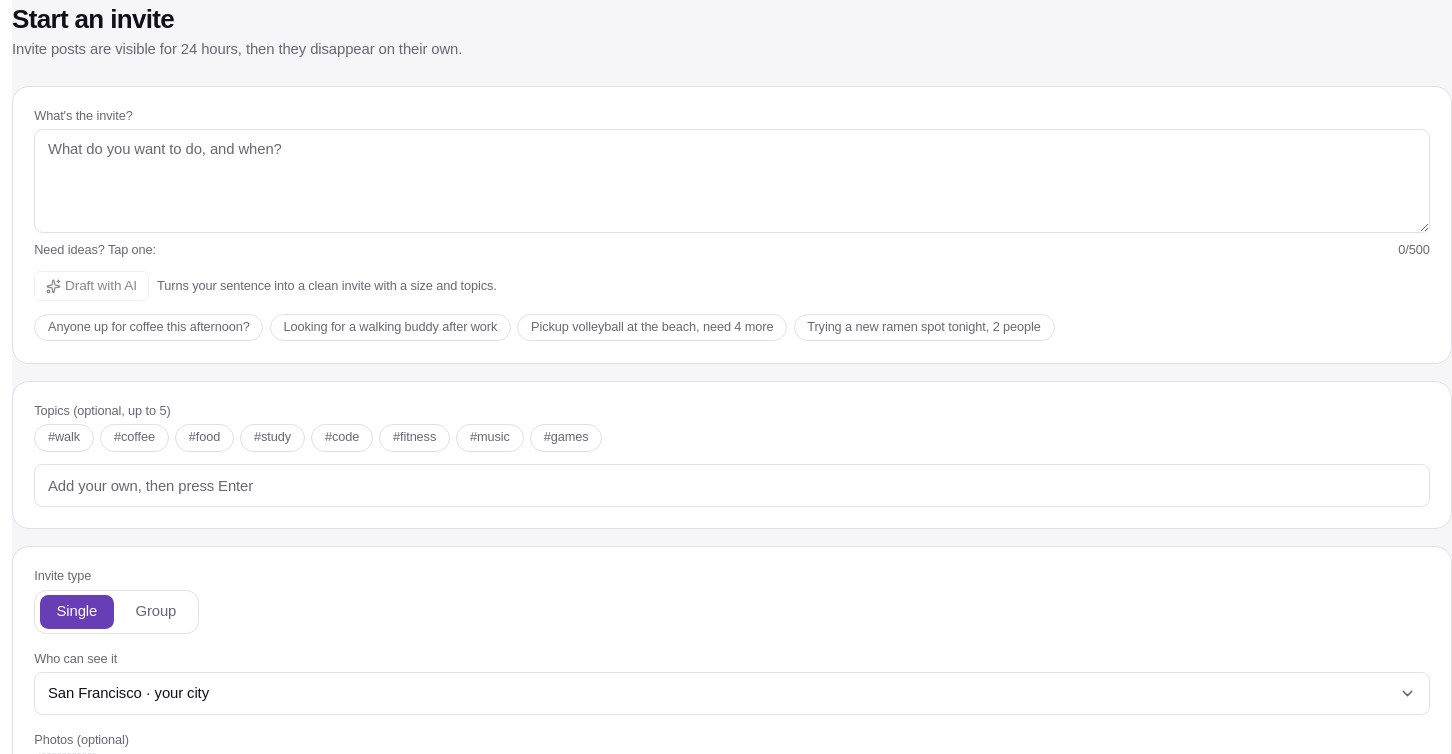
it: NewPostPage › lets a custom group size be abandoned back to the dropdown
The image size is (1452, 754).
Click the radio button labelled "Group". click: (156, 612)
box: [118, 595, 193, 629]
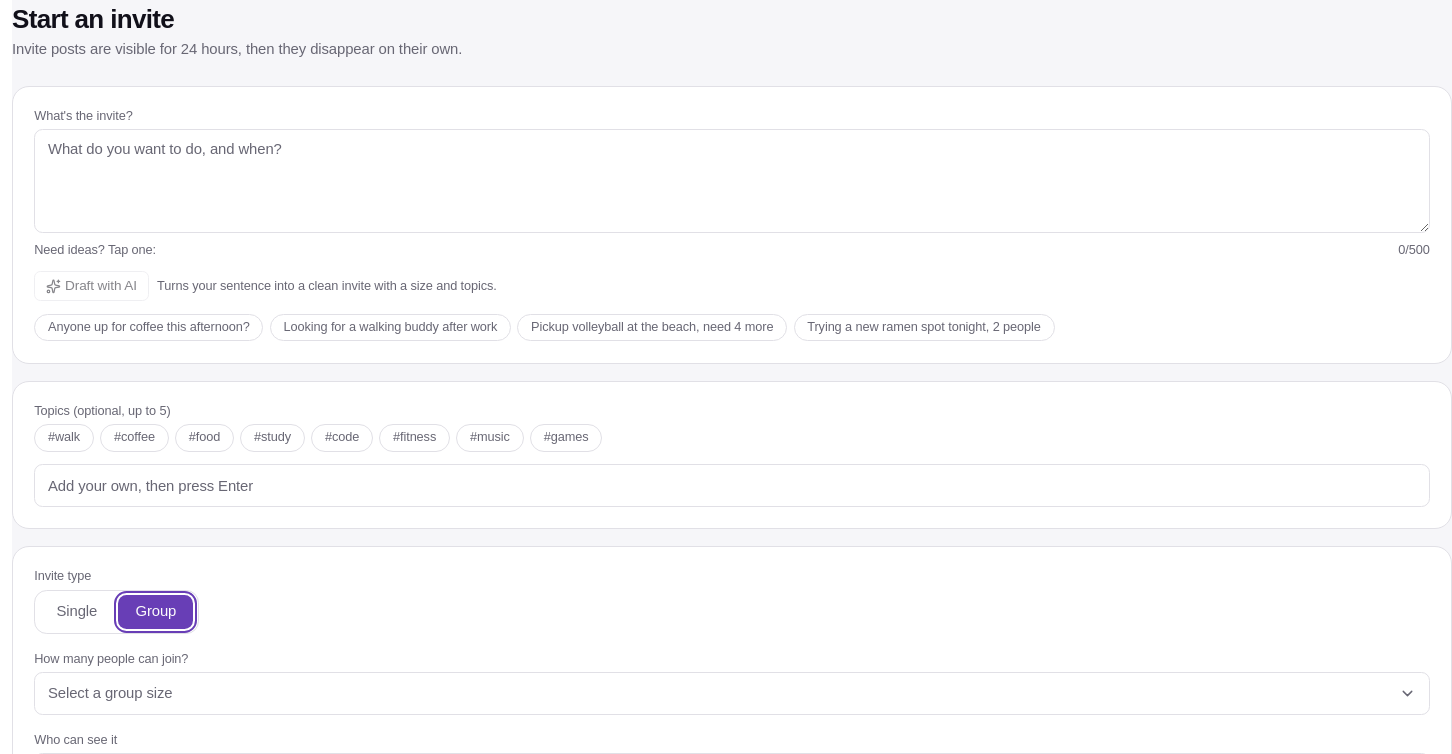
Click the dropdown named "How many people can join?". click: (110, 693)
box: [34, 672, 1430, 715]
(page scrolled)
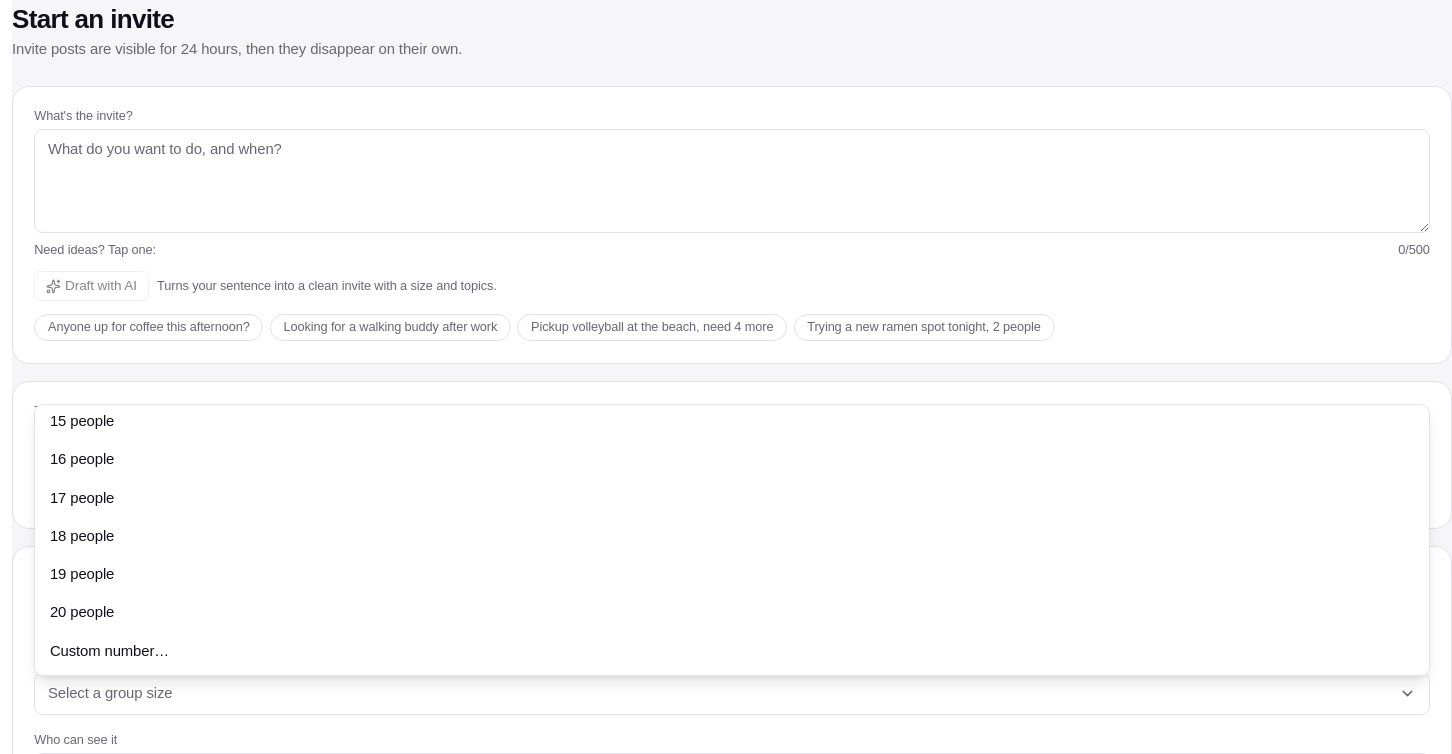
Click the option "Custom number…". click: (109, 651)
box: [50, 643, 169, 659]
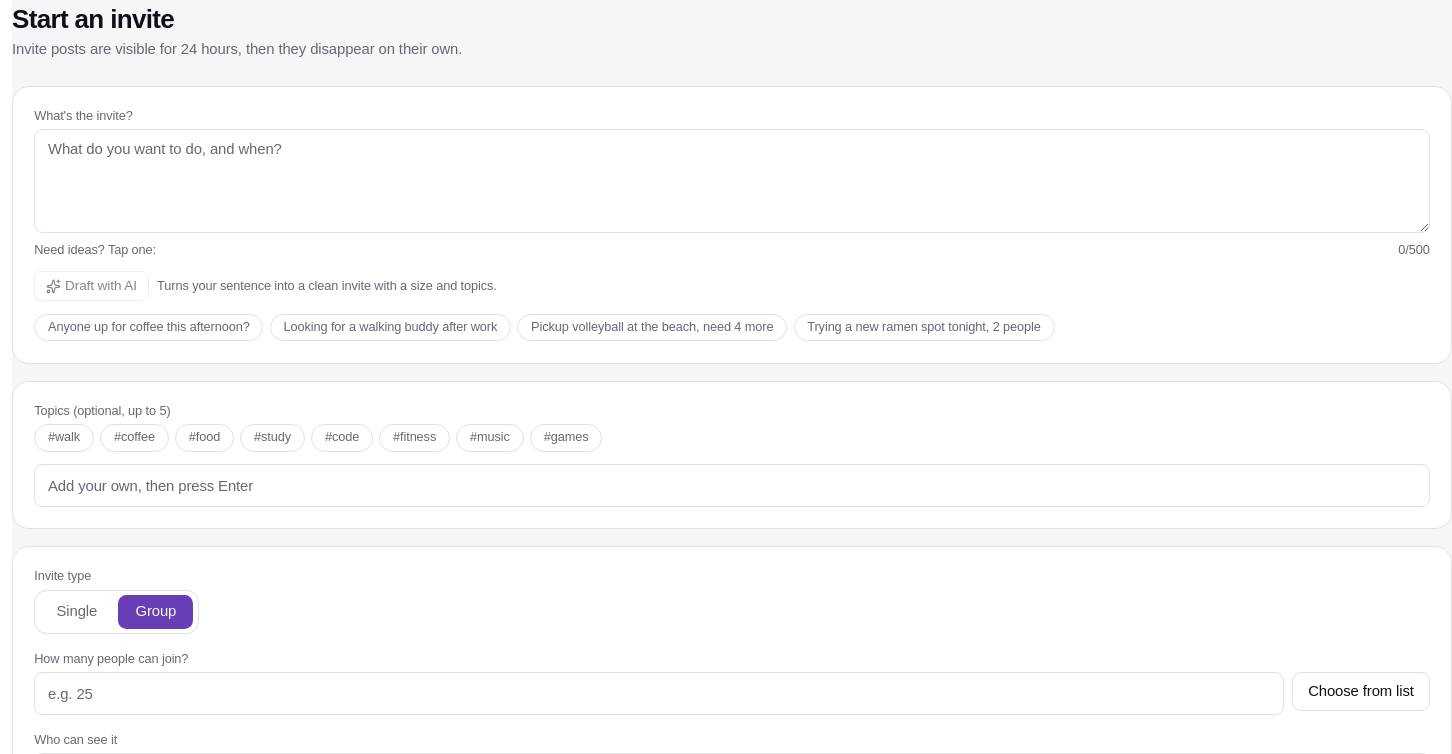
Click the button "Choose from list". click: (1361, 692)
box: [1292, 672, 1430, 711]
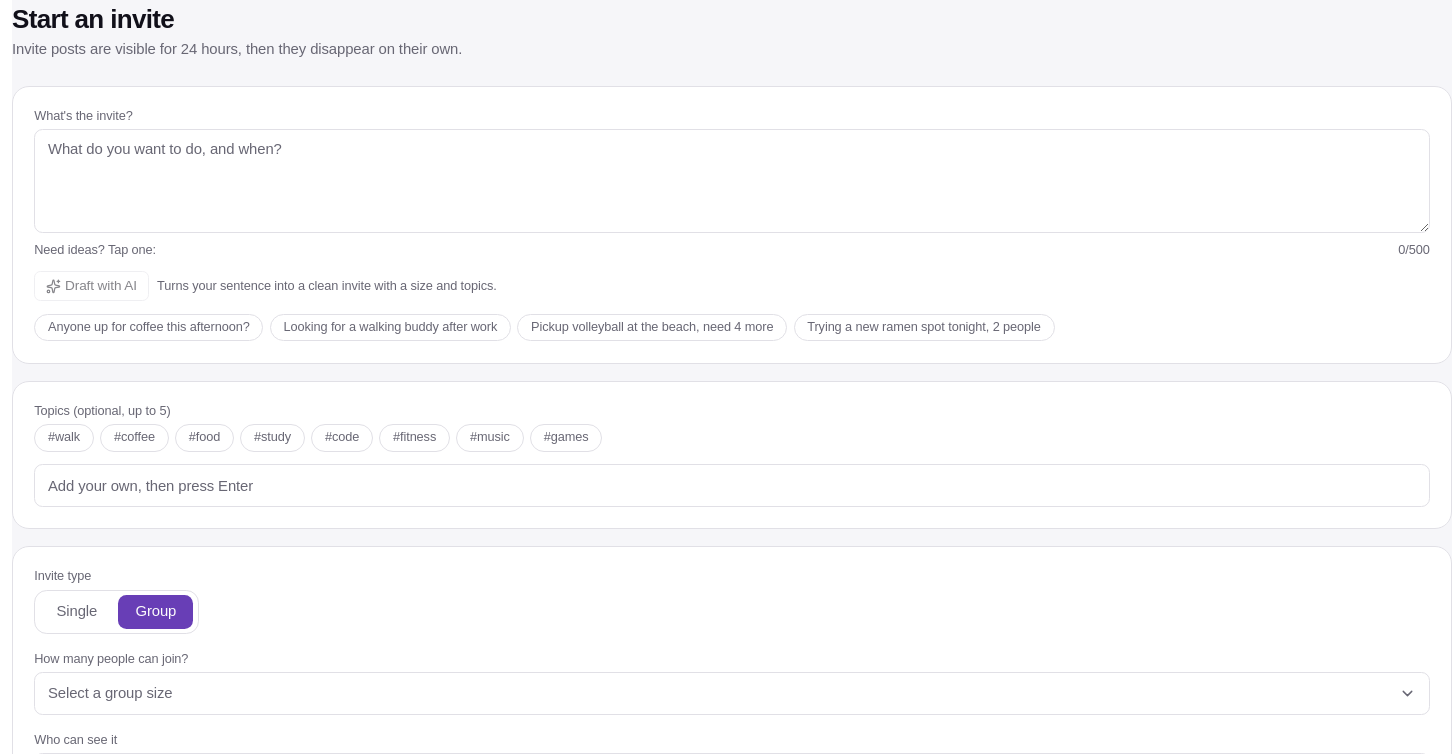
Check: the dropdown named "How many people can join?" is shown, box [34, 672, 1430, 715]
